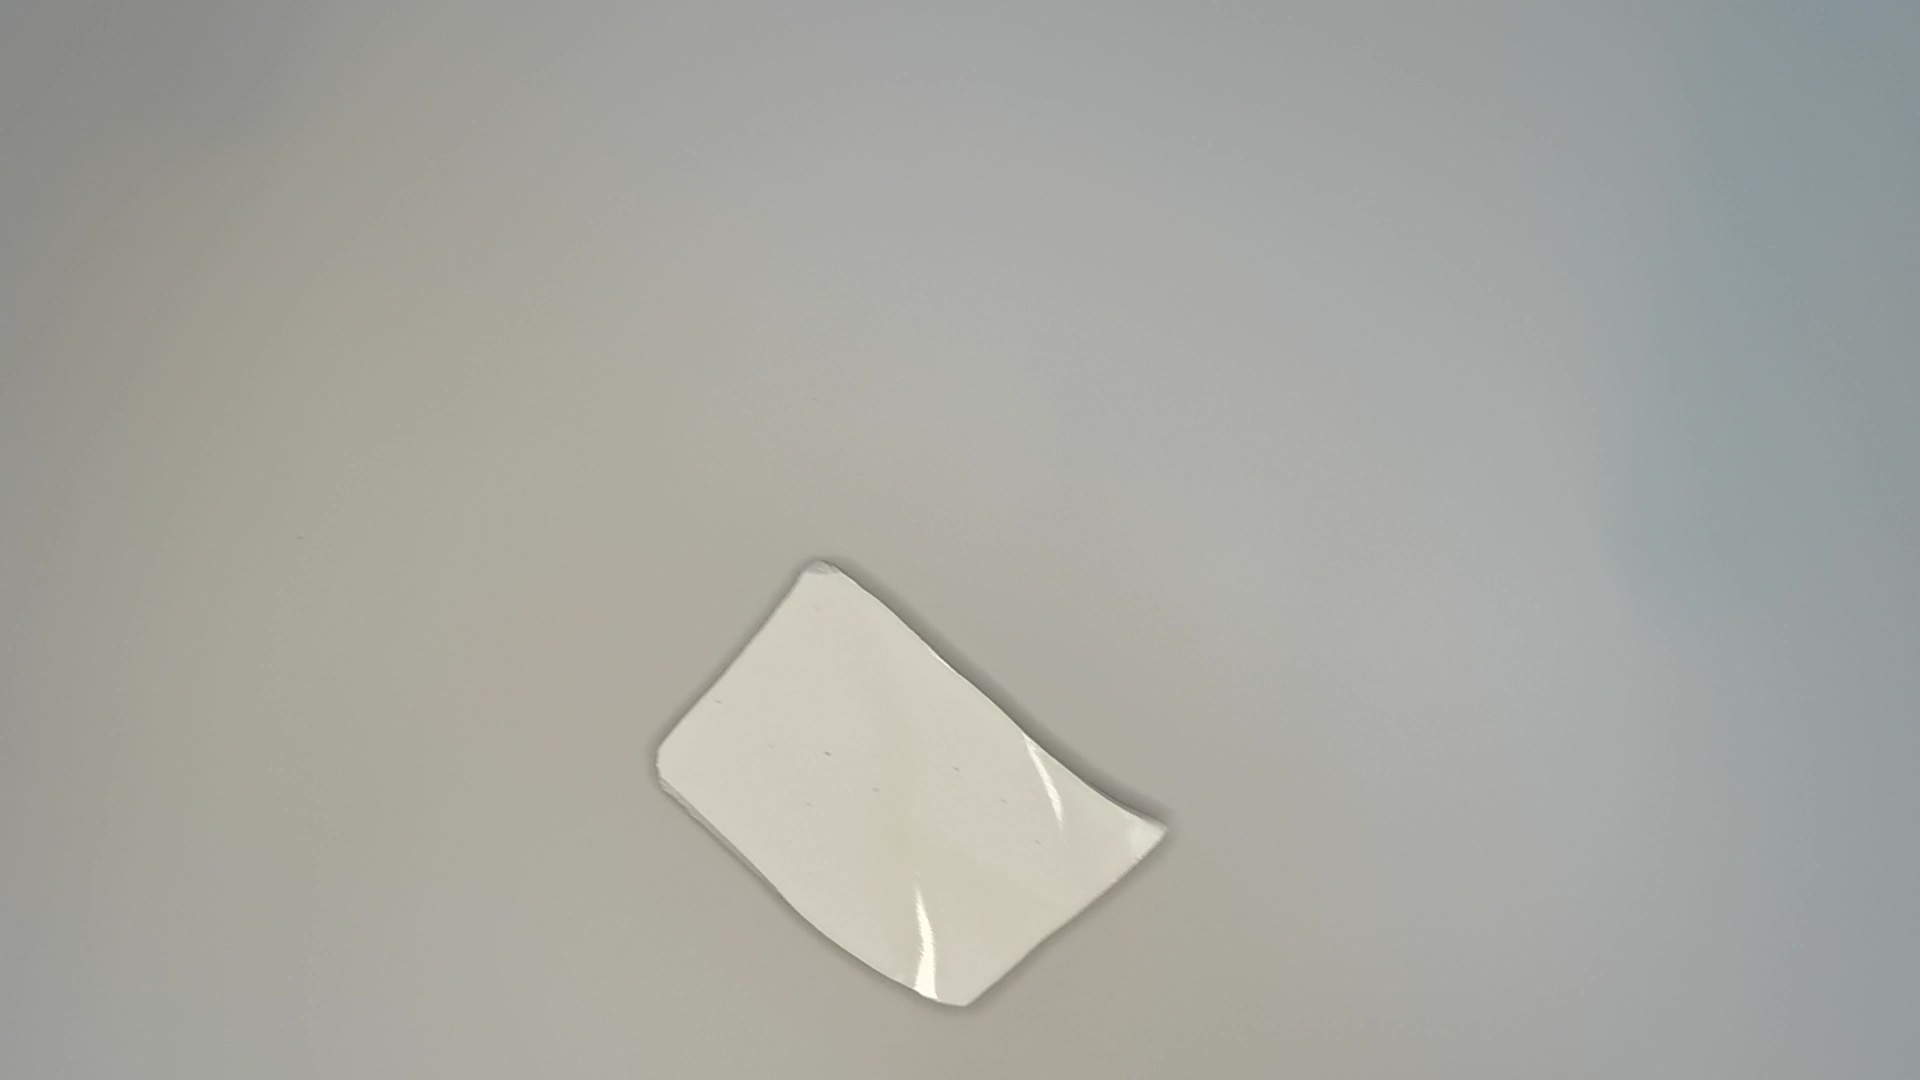ceramic: (655, 564, 1174, 1009)
